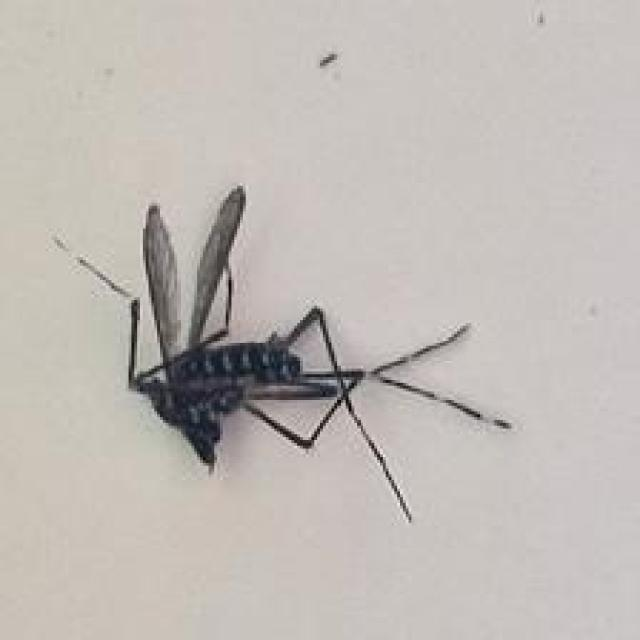Aedes albopictus: (52, 183, 514, 523)
